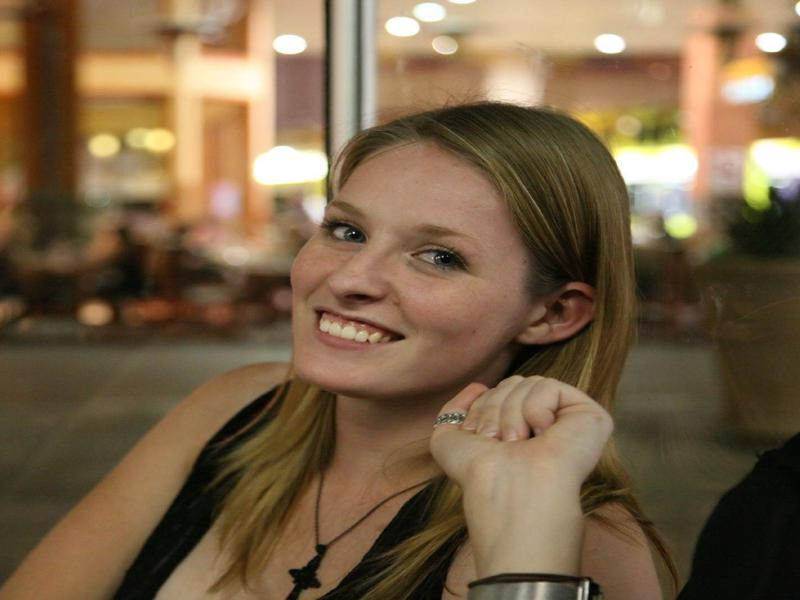person: (11, 97, 674, 595)
